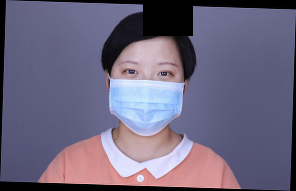with_mask: (106, 60, 186, 139)
